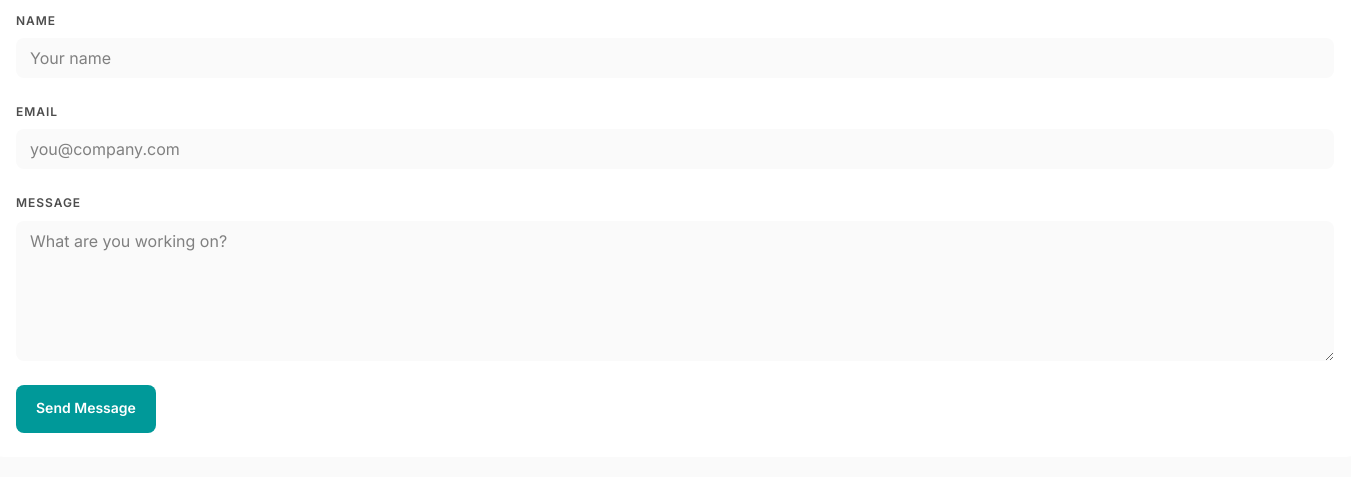
it: ContactForm - SPEC-021 acceptance criteria › AC4: invalid email format shows error without fetching
Type "Jane" into the field labelled "Name".
click(675, 58); type("Jane")  # box [16,38,1334,78]
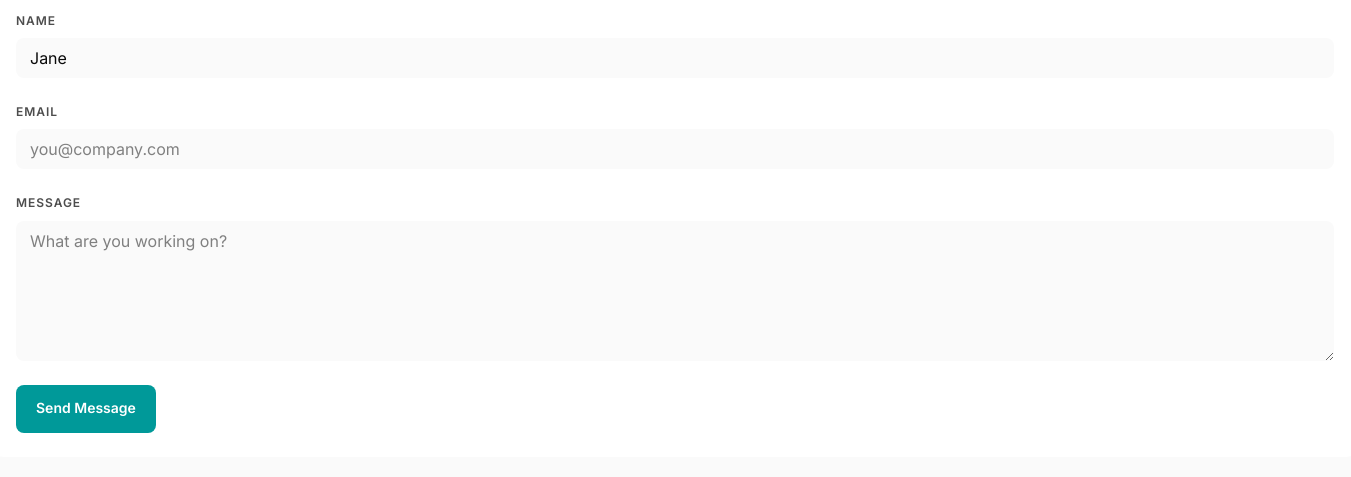
Type "not-an-email" into the field labelled "Email".
click(675, 149); type("not-an-email")  # box [16,129,1334,169]
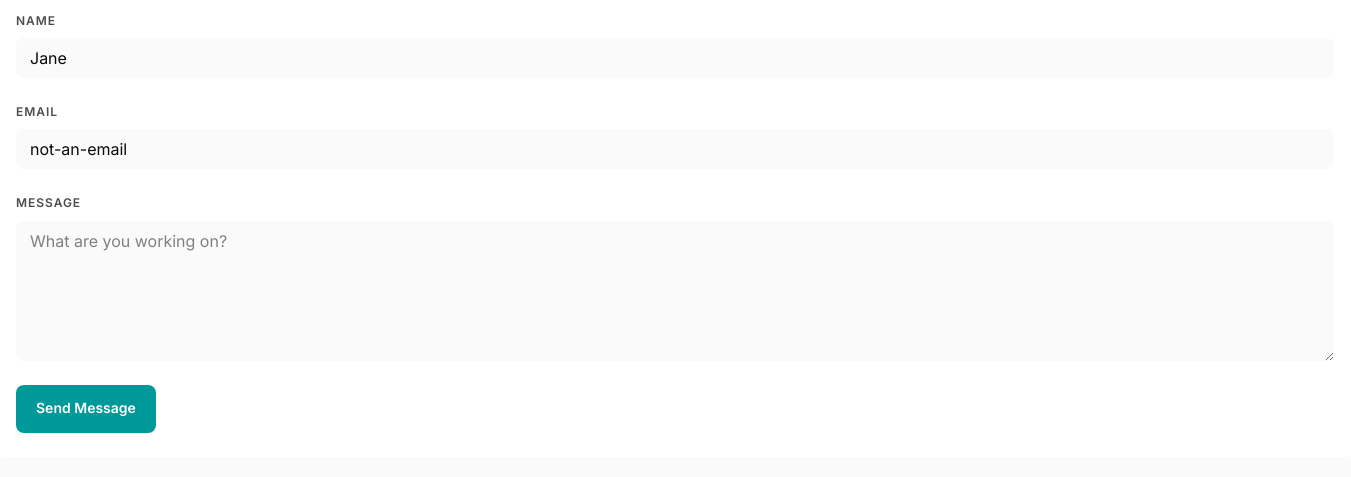
Type "This is a valid length message for the form." into the text box labelled "Message".
click(675, 291); type("This is a valid length message for the form.")  # box [16,221,1334,361]
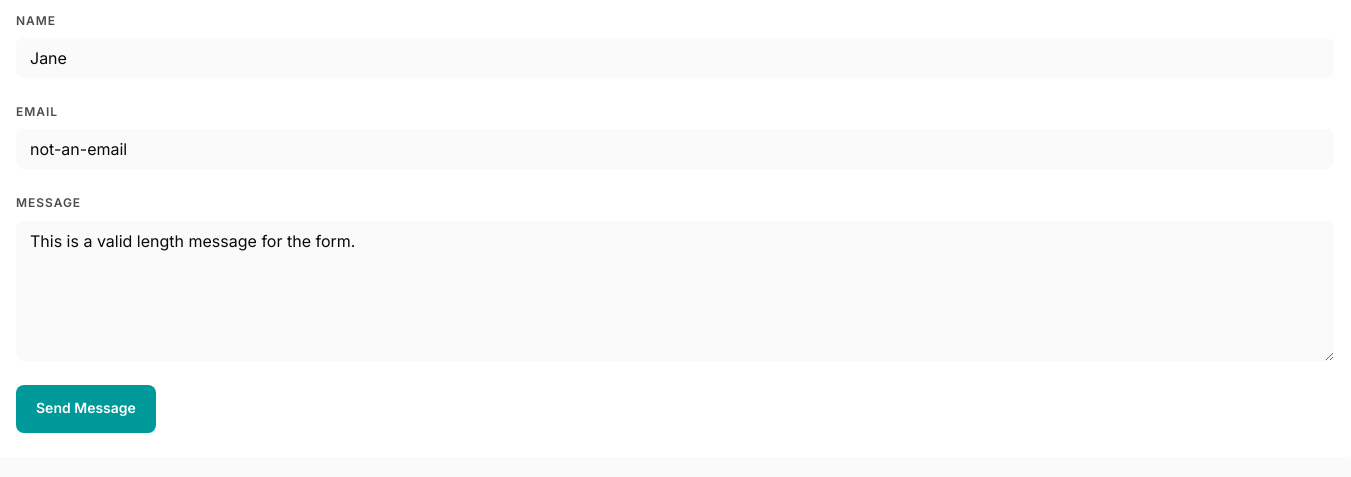
Click the button "Send Message".
click(86, 409)  # box [16,385,156,433]
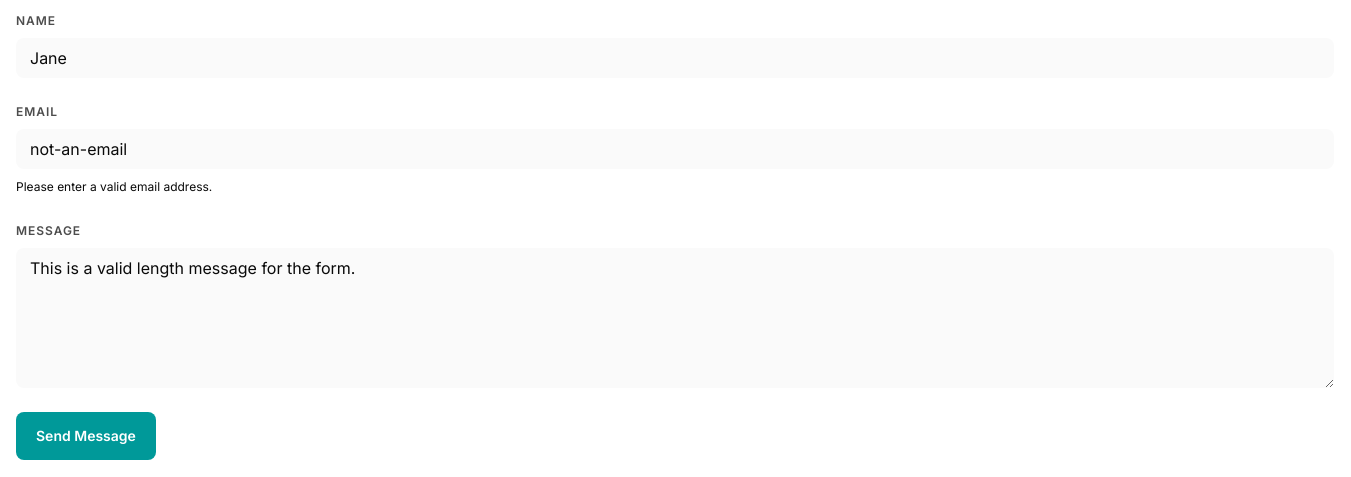
Expected: the text "Please enter a valid email address." is shown, [16,179,212,194]
